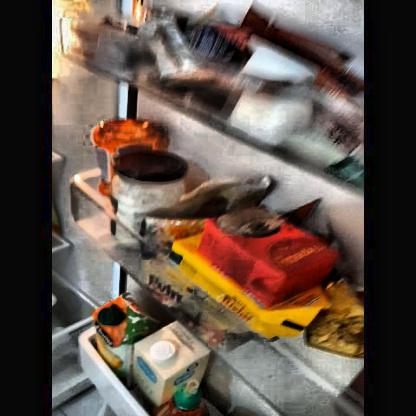heavy_cream: (202, 208, 340, 298)
milk: (138, 322, 204, 400)
